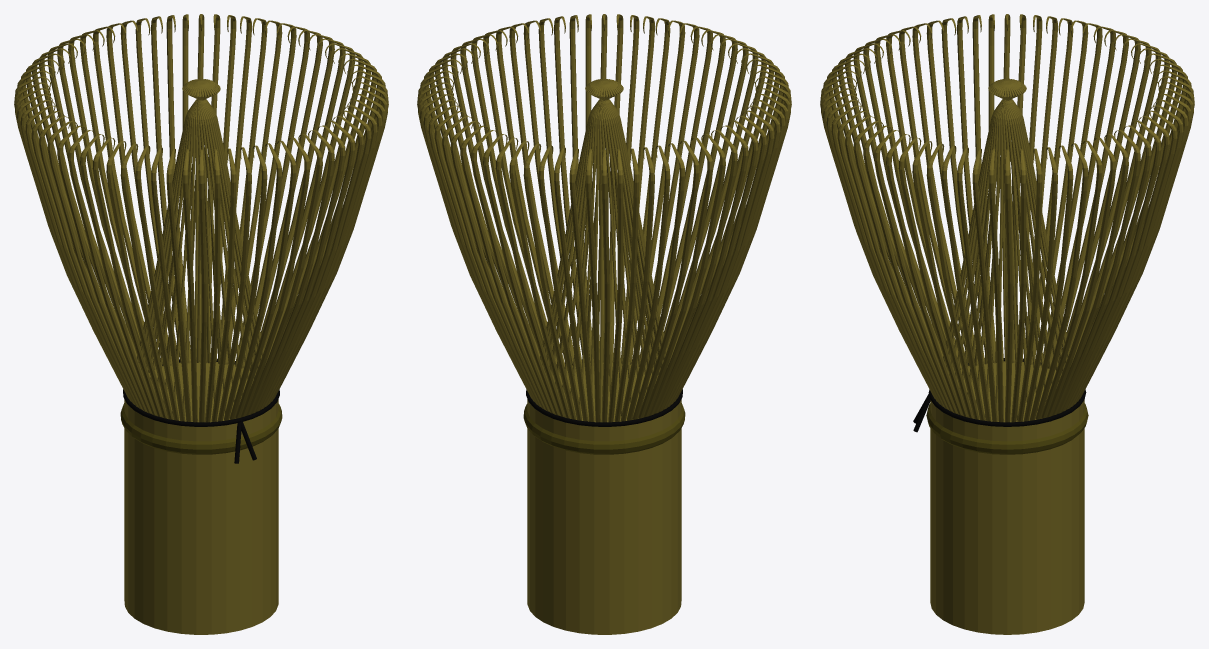
The model's file is chasen (1).fbx.
3 renders of one model, left to right at view 1: azimuth 30°, elevation 25°; view 2: azimuth 150°, elevation 25°; view 3: azimuth 270°, elevation 25°, orthographic.
Parts seen in each view (by area): view 1: 円柱; view 2: 円柱; view 3: 円柱.
Boxes of the visible parts, left/top/right/bottom form: 円柱: left=14, top=14, right=388, bottom=634; 円柱: left=417, top=14, right=791, bottom=634; 円柱: left=820, top=14, right=1194, bottom=634.
Size of the model in its own units: 485 by 753 by 485.
